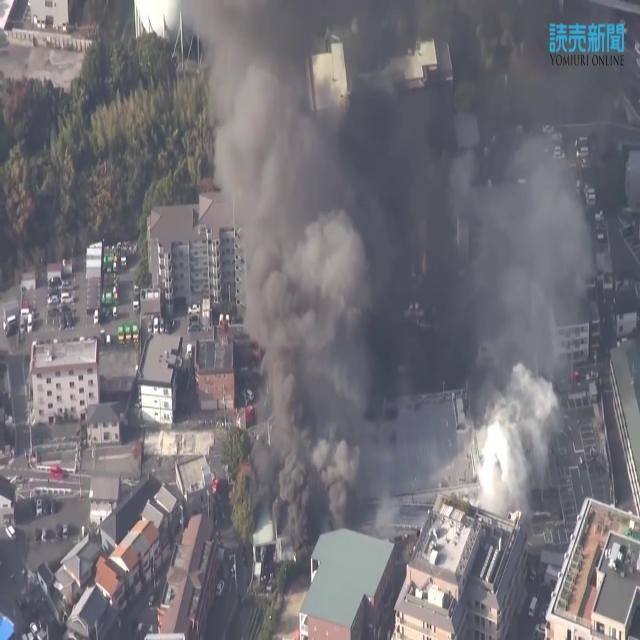Smoke: (215, 0, 588, 542)
